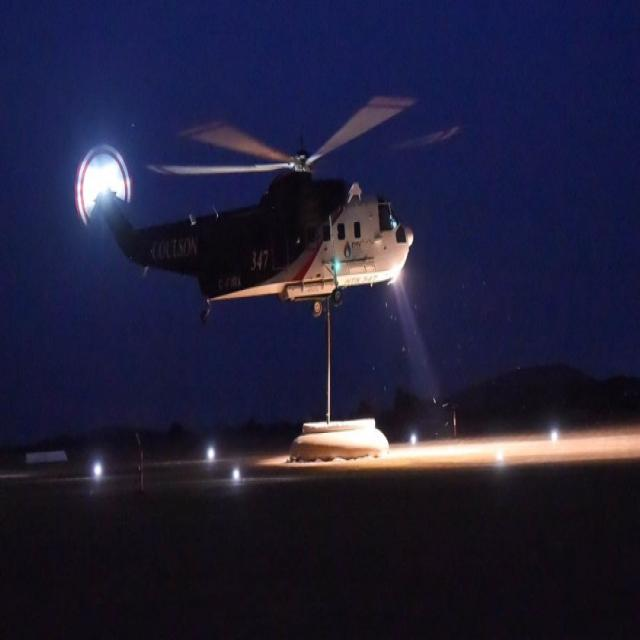helicopter: (68, 95, 424, 320)
